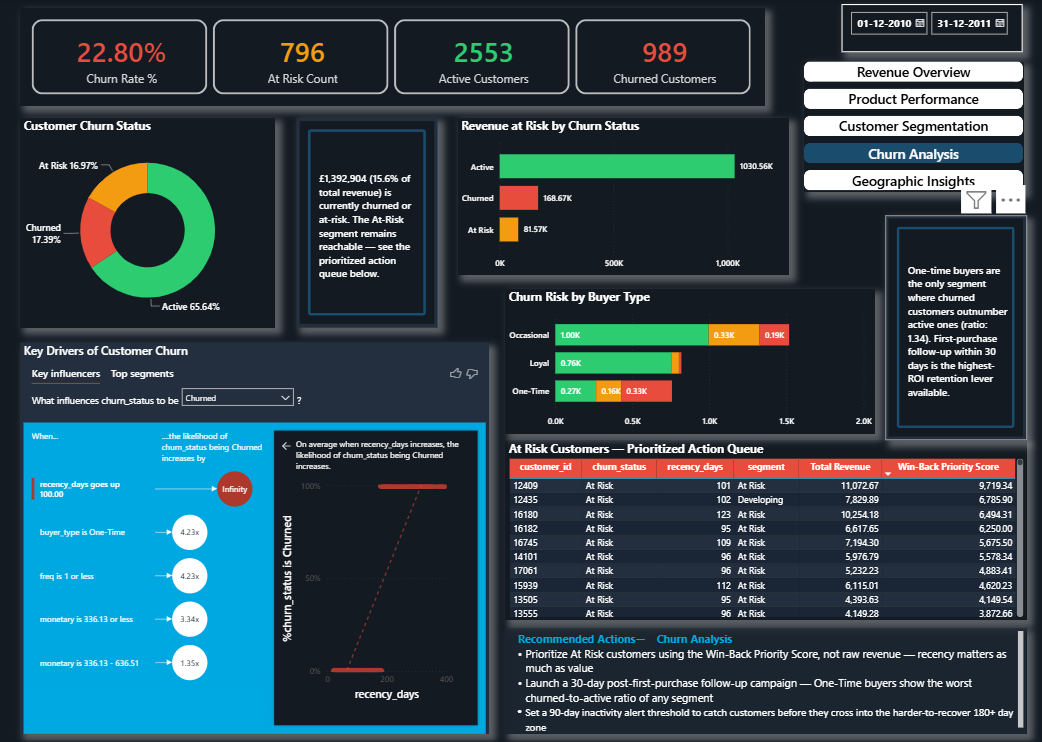

The dashboard page shown, as its layout file describes it:
{"tool":"powerbi","page":{"name":"Churn Analysis","canvas":[1540,1100],"ordinal":3},"visuals":[{"type":"slicer","fields":{"Values":["dim_date.date_id"]},"box":[1242,8,266.9,70.9],"z":0},{"type":"cardVisual","fields":{"Data":["fact_orders.Churn Rate %","fact_orders.At Risk Count","fact_orders.Active Customers","fact_orders.Churned Customers"]},"box":[31.7,12.3,1097.9,145],"z":1000},{"type":"donutChart","title":"Customer Churn Status","fields":{"Category":["rfm_segments.churn_status"],"Y":["rfm_segments.Customer Count"]},"box":[31.3,175.1,376,309.7],"z":2000},{"type":"barChart","title":"Churn Risk by Buyer Type","fields":{"Category":["rfm_segments.buyer_type"],"Series":["rfm_segments.churn_status"],"Y":["rfm_segments.Customer Count"]},"box":[746.5,427.6,545.6,213.8],"z":3000},{"type":"clusteredBarChart","title":"Revenue at Risk by Churn Status","fields":{"Category":["rfm_segments.churn_status"],"Y":["fact_orders.Total Revenue"]},"box":[676.4,175.1,488.4,232.2],"z":4000},{"type":"tableEx","title":"At Risk Customers — Prioritized Action Queue","fields":{"Values":["dim_customers.customer_id","rfm_segments.churn_status","rfm_segments.recency_days","rfm_segments.segment","fact_orders.Total Revenue","fact_orders.Win-Back Priority Score"]},"box":[746.5,650.6,768.6,265.4],"z":5000},{"type":"pageNavigator","box":[1187.6,91.5,323.7,191.8],"z":6000},{"type":"cardVisual","fields":{"Data":["fact_orders.Revenue At Stake Text"]},"box":[438.7,175.1,208.3,309.7],"z":7000},{"type":"cardVisual","fields":{"Data":["fact_orders.One Time Insight Text"]},"box":[1306.8,318.9,208.3,331.8],"z":8000},{"type":"keyDriversVisual","title":"Key Drivers of Customer Churn","fields":{"ExplainBy":["rfm_segments.recency_days","rfm_segments.freq","rfm_segments.monetary","rfm_segments.buyer_type"],"Target":["rfm_segments.churn_status"]},"box":[31.3,506.9,691.2,576.9],"z":9000},{"type":"textbox","box":[746.5,927.1,768.6,156.7],"z":9001}]}

Visuals, with their boxes in screenshot pixels (x1, y1, x2, y2), scaled from the page's 1540x1100 canvas onto the 1042x742 screenshot:
slicer - dim_date.date_id: [840, 5, 1021, 53]
cardVisual - fact_orders.Churn Rate % x fact_orders.At Risk Count: [21, 8, 764, 106]
"Customer Churn Status" donutChart: [21, 118, 276, 327]
"Churn Risk by Buyer Type" barChart: [505, 288, 874, 433]
"Revenue at Risk by Churn Status" clusteredBarChart: [458, 118, 788, 275]
"At Risk Customers — Prioritized Action Queue" tableEx: [505, 439, 1025, 618]
pageNavigator: [804, 62, 1023, 191]
cardVisual - fact_orders.Revenue At Stake Text: [297, 118, 438, 327]
cardVisual - fact_orders.One Time Insight Text: [884, 215, 1025, 439]
"Key Drivers of Customer Churn" keyDriversVisual: [21, 342, 489, 731]
textbox: [505, 625, 1025, 731]
